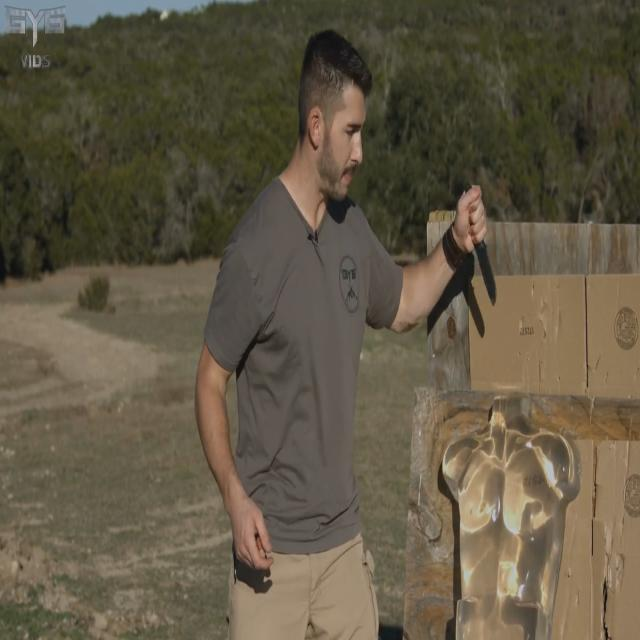knife: (472, 239, 504, 320)
